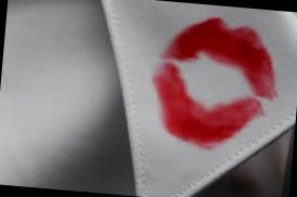lipstick: (148, 18, 289, 148), (167, 17, 277, 64), (203, 93, 263, 140), (167, 101, 228, 143), (243, 57, 286, 98), (151, 72, 190, 106)
